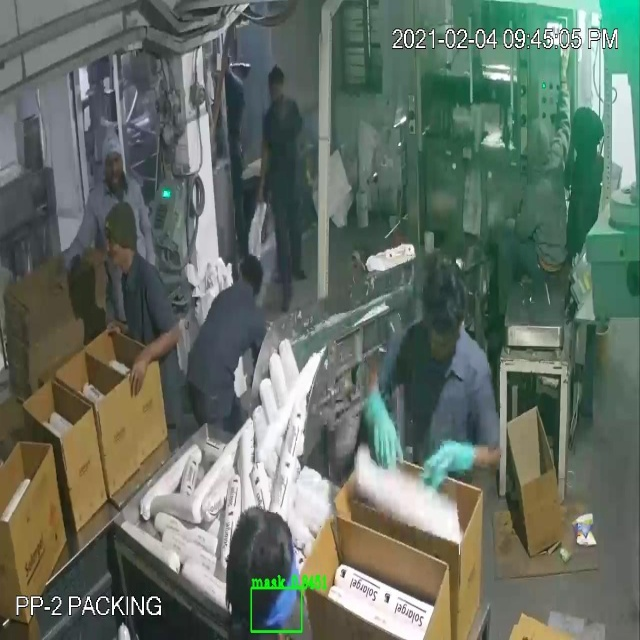Guantes: (344, 368, 408, 479), (417, 415, 486, 503)
Sin_guantes: (124, 319, 186, 404), (252, 117, 273, 218)
